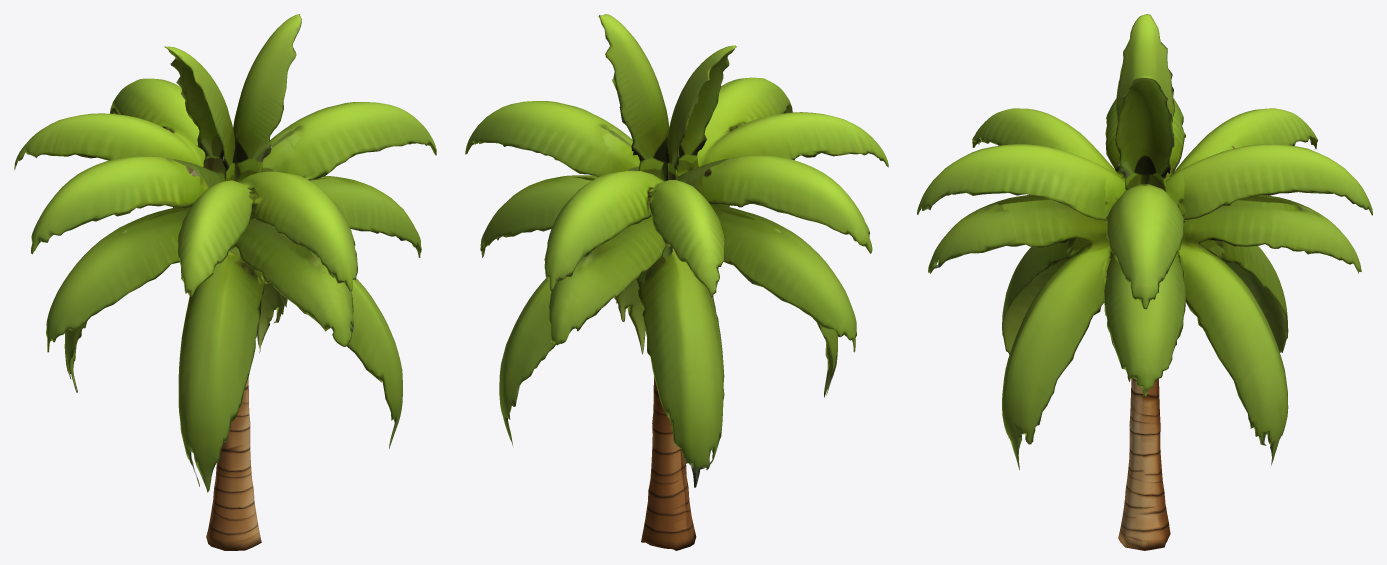
Rendered from tree2.fbx.
3 renders of one model, left to right at view 1: azimuth 30°, elevation 25°; view 2: azimuth 150°, elevation 25°; view 3: azimuth 270°, elevation 25°, orthographic. The views are drawn at different scales.
Parts seen in each view (by area): view 1: model; view 2: model; view 3: model.
Part boxes in pixels (x1,y1,x2,y2): model: (14,14,436,550); model: (465,14,888,550); model: (917,14,1372,550).
Size of the model in its own units: 159 by 190 by 159.
1 material, 1 textured.
